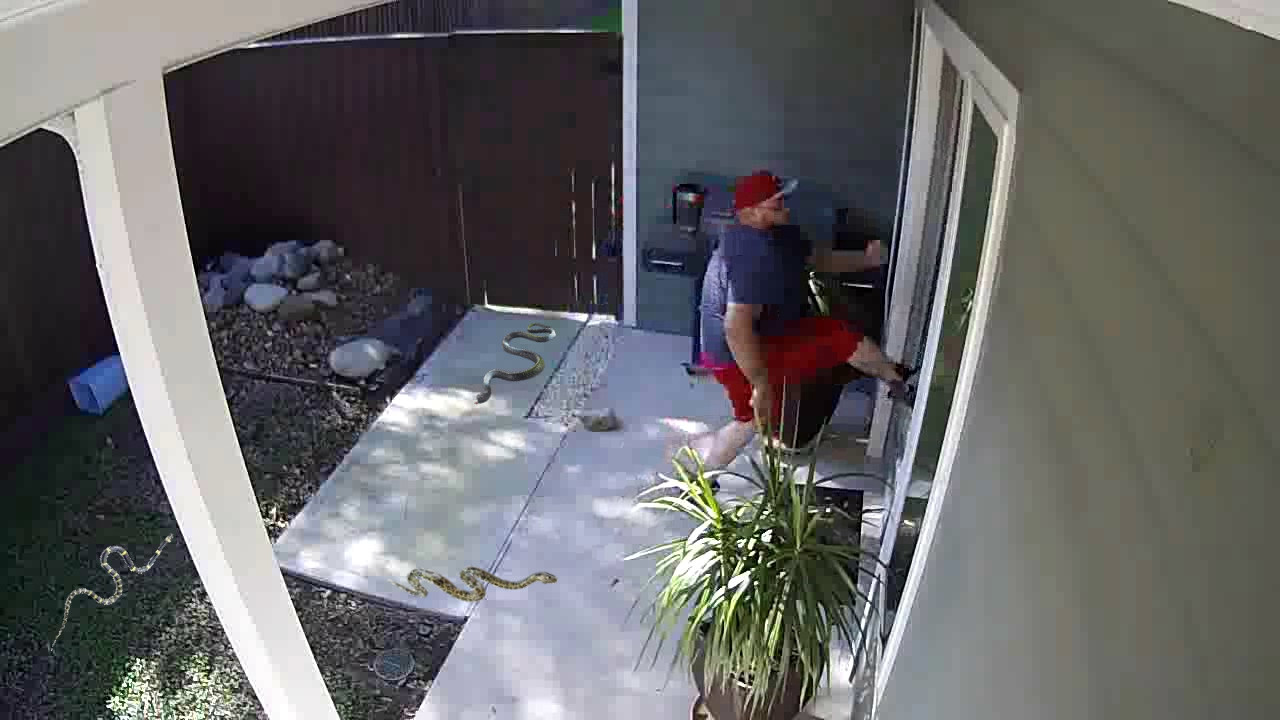snake: (50, 529, 178, 657), (474, 320, 555, 406), (398, 565, 560, 604)
